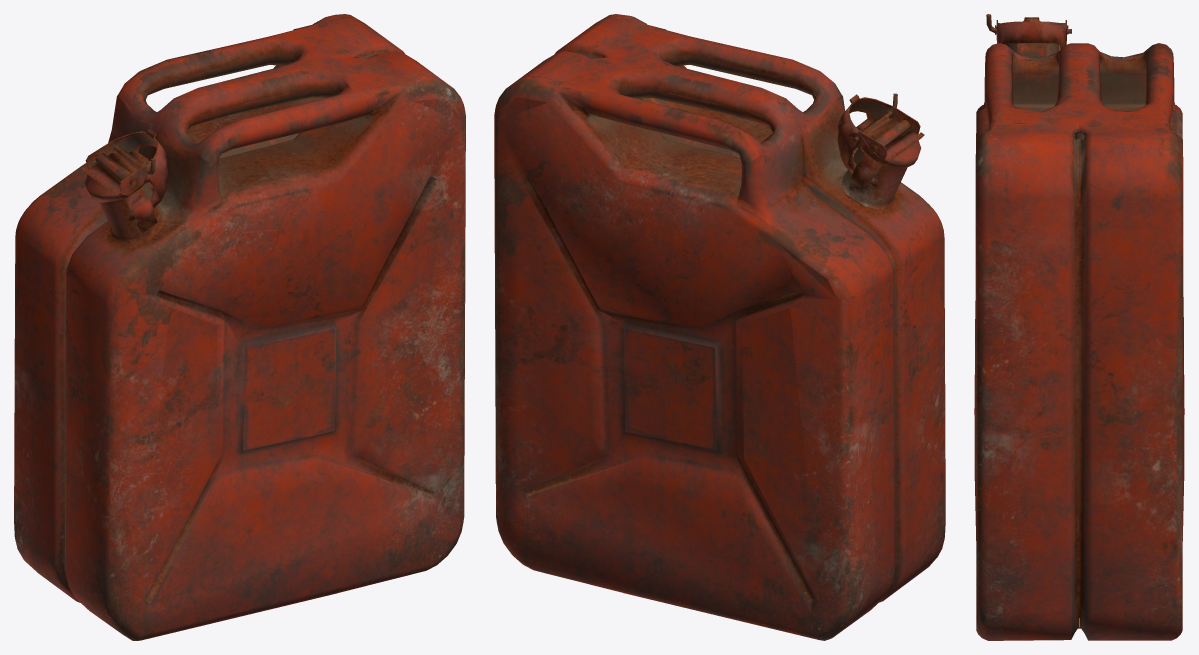
File: metal_jerrycan_1k.gltf
The picture shows the model from 3 angles, left to right: view 1: azimuth 30°, elevation 25°; view 2: azimuth 150°, elevation 25°; view 3: azimuth 270°, elevation 25°; orthographic projection. The views are drawn at different scales.
Parts seen in each view (by area): view 1: metal_jerrycan; view 2: metal_jerrycan; view 3: metal_jerrycan.
Boxes of the visible parts, box(x1,y1,x2,y2) form: metal_jerrycan: box(14, 14, 465, 640); metal_jerrycan: box(494, 14, 945, 640); metal_jerrycan: box(974, 14, 1184, 640).
Size of the model in its own units: 0.35 by 0.455 by 0.1723.
1 material, 1 textured.
